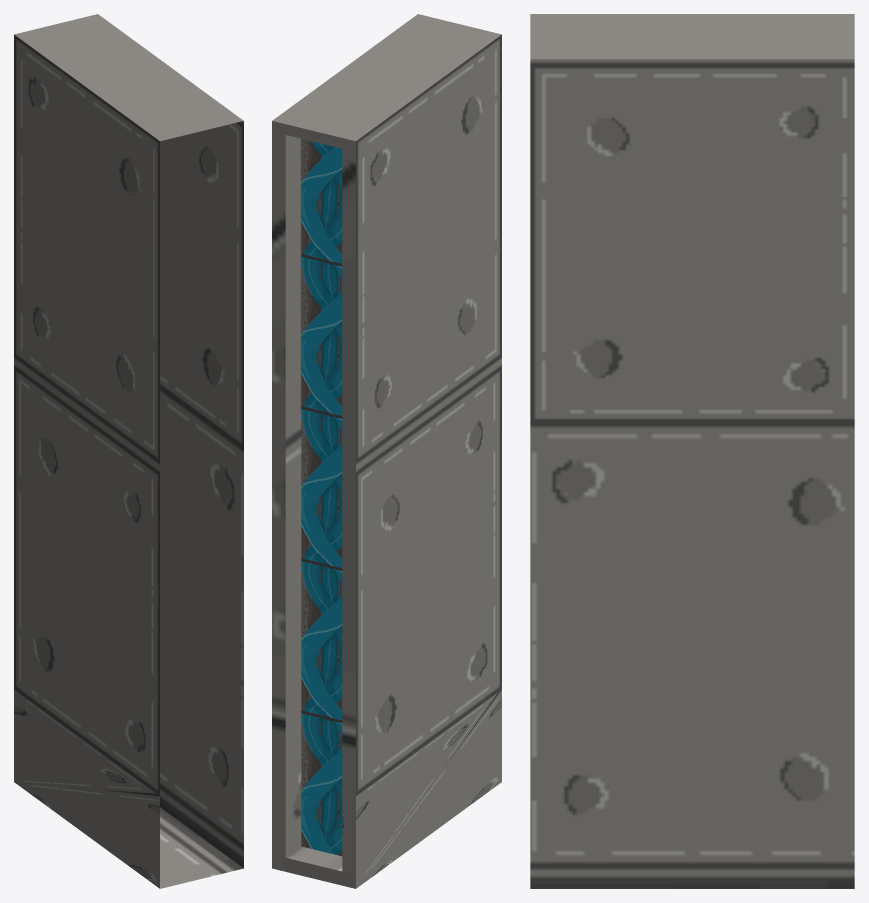
The model's file is lilwalls.fbx.
3 renders of one model, left to right at view 1: azimuth 30°, elevation 25°; view 2: azimuth 150°, elevation 25°; view 3: azimuth 270°, elevation 25°, orthographic. The views are drawn at different scales.
Parts seen in each view (by area): view 1: wallPiece; view 2: wallPiece; view 3: wallPiece.
Boxes of the visible parts, left/top/right/bottom form: wallPiece: left=14, top=14, right=243, bottom=888; wallPiece: left=272, top=14, right=501, bottom=888; wallPiece: left=530, top=14, right=854, bottom=888.
Bounding box in the file's own units: 1 × 8.52 × 3.02.
